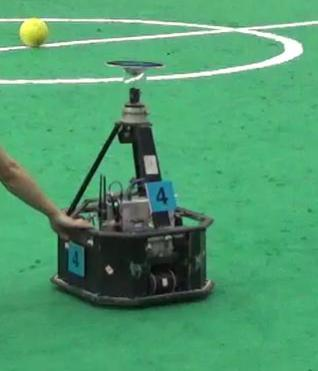robot: (43, 55, 222, 312)
